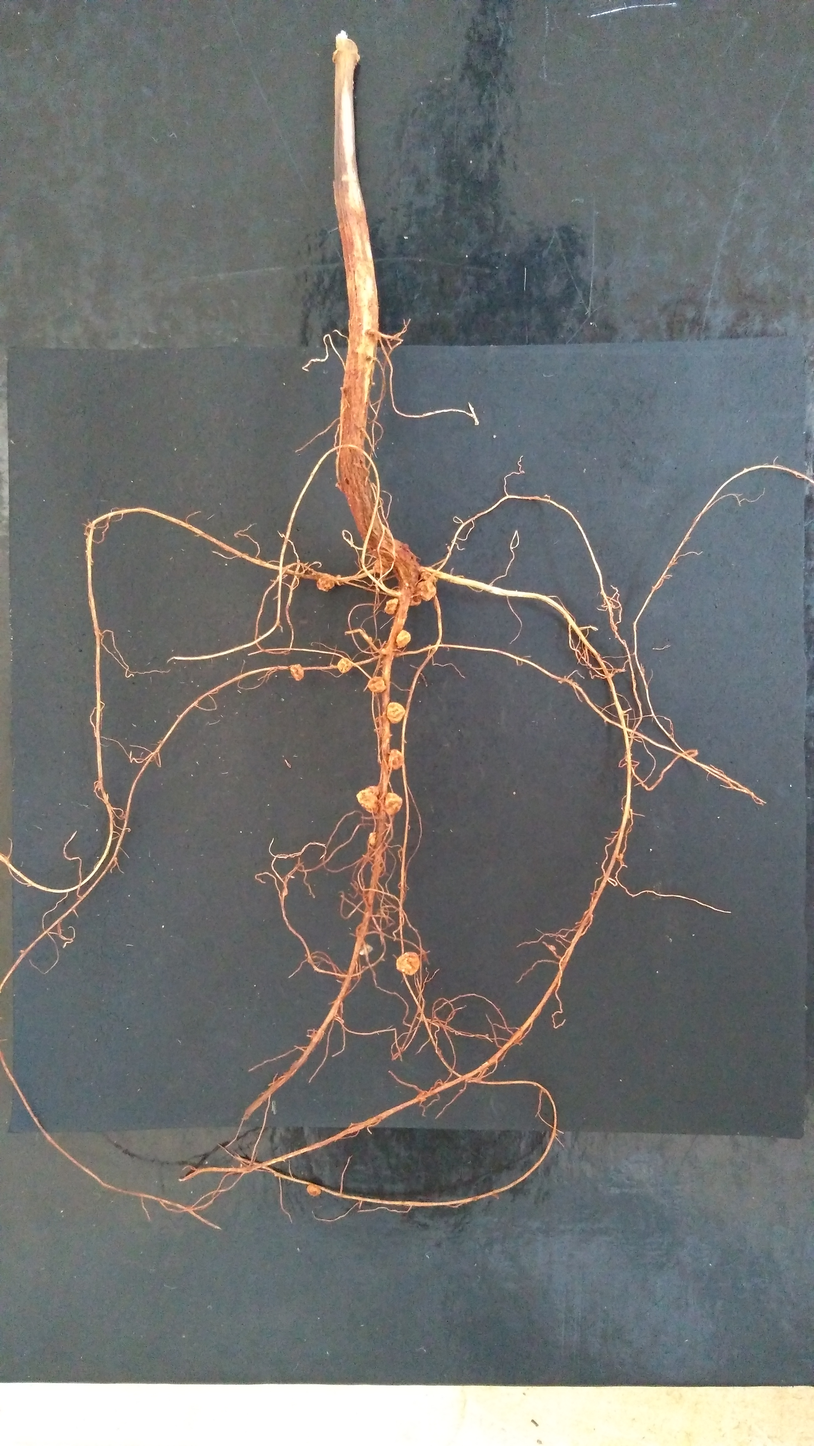nodule: (356, 786, 379, 814), (396, 951, 420, 976), (416, 580, 436, 602), (398, 586, 421, 605), (386, 701, 405, 724), (385, 792, 403, 815), (316, 573, 335, 592), (388, 748, 404, 770), (368, 676, 385, 693), (375, 556, 390, 574), (396, 630, 411, 648), (290, 664, 304, 681), (337, 658, 352, 673), (385, 598, 398, 615), (306, 1183, 321, 1197), (420, 571, 437, 582), (359, 943, 373, 955), (369, 832, 376, 846), (380, 647, 388, 655), (401, 543, 409, 550), (550, 945, 556, 950), (620, 853, 624, 860), (369, 637, 372, 642)
